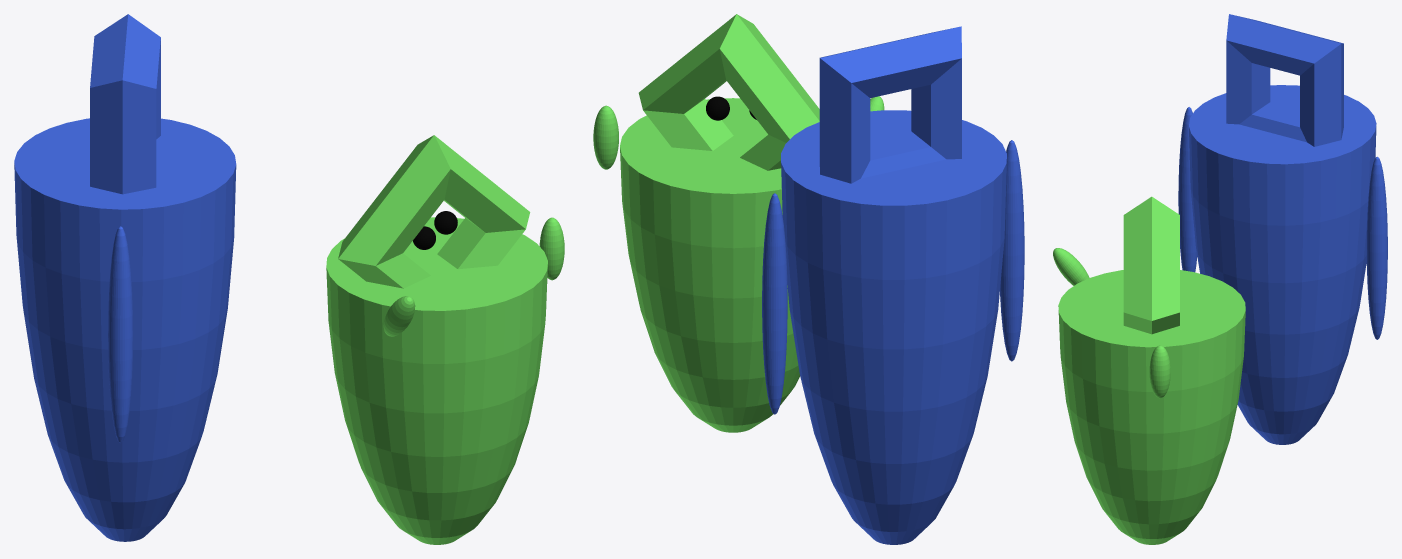
3 views of the same model, side by side, from view 1: azimuth 30°, elevation 25°; view 2: azimuth 150°, elevation 25°; view 3: azimuth 270°, elevation 25° (orthographic). The views are drawn at different scales.
Visible parts, largest first — view 1: Sphere.015, Sphere.010, Torus.435, Torus.434, Sphere.017, Sphere.013, Sphere.014; view 2: Sphere.015, Sphere.010, Torus.434, Torus.435, Sphere.016, Sphere.017, Sphere.013; view 3: Sphere.015, Sphere.010, Torus.434, Torus.435, Sphere.016, Sphere.017, Sphere.013, Sphere.014.
Part boxes in pixels (bbox=[...]): Sphere.015: bbox=[14, 118, 236, 541]; Sphere.010: bbox=[326, 217, 547, 544]; Torus.435: bbox=[338, 135, 530, 288]; Torus.434: bbox=[90, 14, 160, 194]; Sphere.017: bbox=[108, 226, 133, 443]; Sphere.013: bbox=[539, 217, 564, 280]; Sphere.014: bbox=[383, 296, 415, 336]; Sphere.015: bbox=[781, 110, 1006, 544]; Sphere.010: bbox=[620, 98, 799, 432]; Torus.434: bbox=[819, 26, 961, 183]; Torus.435: bbox=[638, 14, 819, 170]; Sphere.016: bbox=[762, 193, 787, 414]; Sphere.017: bbox=[1000, 140, 1024, 361]; Sphere.013: bbox=[593, 105, 618, 169]; Sphere.015: bbox=[1189, 85, 1376, 444]; Sphere.010: bbox=[1058, 270, 1245, 544]; Torus.434: bbox=[1226, 14, 1343, 146]; Torus.435: bbox=[1123, 196, 1179, 334]; Sphere.016: bbox=[1366, 156, 1387, 339]; Sphere.017: bbox=[1178, 107, 1197, 272]; Sphere.013: bbox=[1149, 345, 1170, 398]; Sphere.014: bbox=[1053, 248, 1089, 285].
Bounding box in the file's own units: 7.01 × 7.16 × 5.22.
